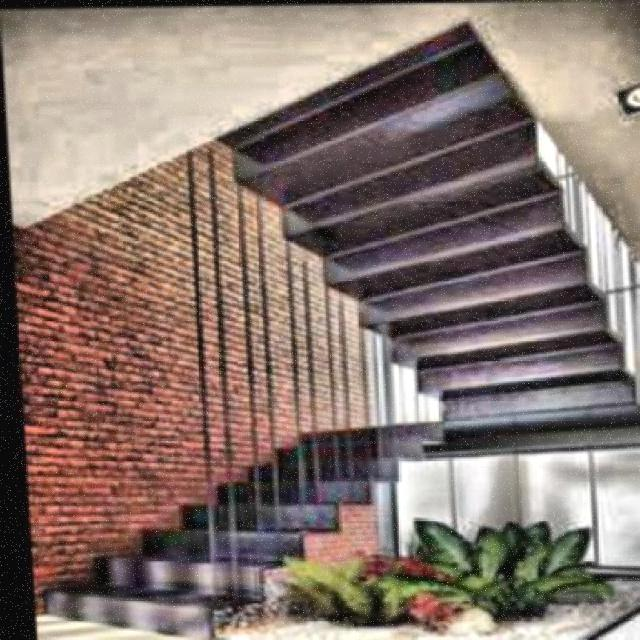stair: (21, 411, 432, 638)
